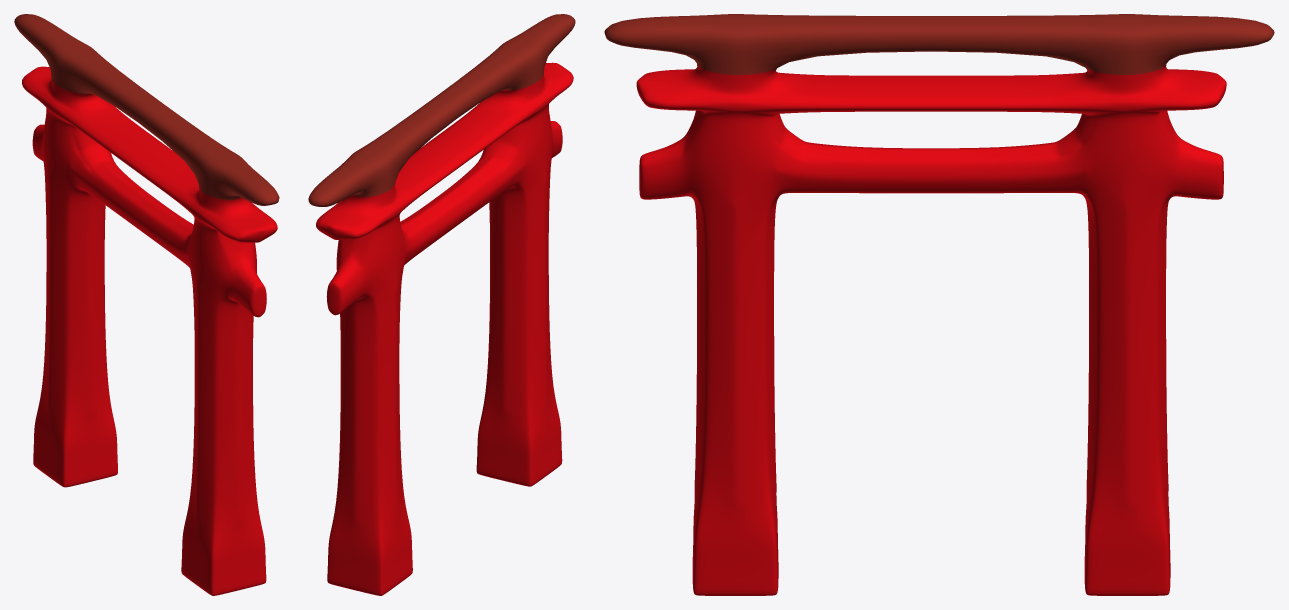
File: GATE.glb
3 views of the same model, side by side, from view 1: azimuth 30°, elevation 25°; view 2: azimuth 150°, elevation 25°; view 3: azimuth 270°, elevation 25° (orthographic). The views are drawn at different scales.
Visible parts, largest first — view 1: Cube; view 2: Cube; view 3: Cube.
Boxes of the visible parts, x1=… form: Cube: x1=14, y1=14, x2=279, y2=595; Cube: x1=308, y1=14, x2=575, y2=595; Cube: x1=604, y1=14, x2=1274, y2=595.
Size of the model in its own units: 0.4381 by 3.15 by 3.42.
